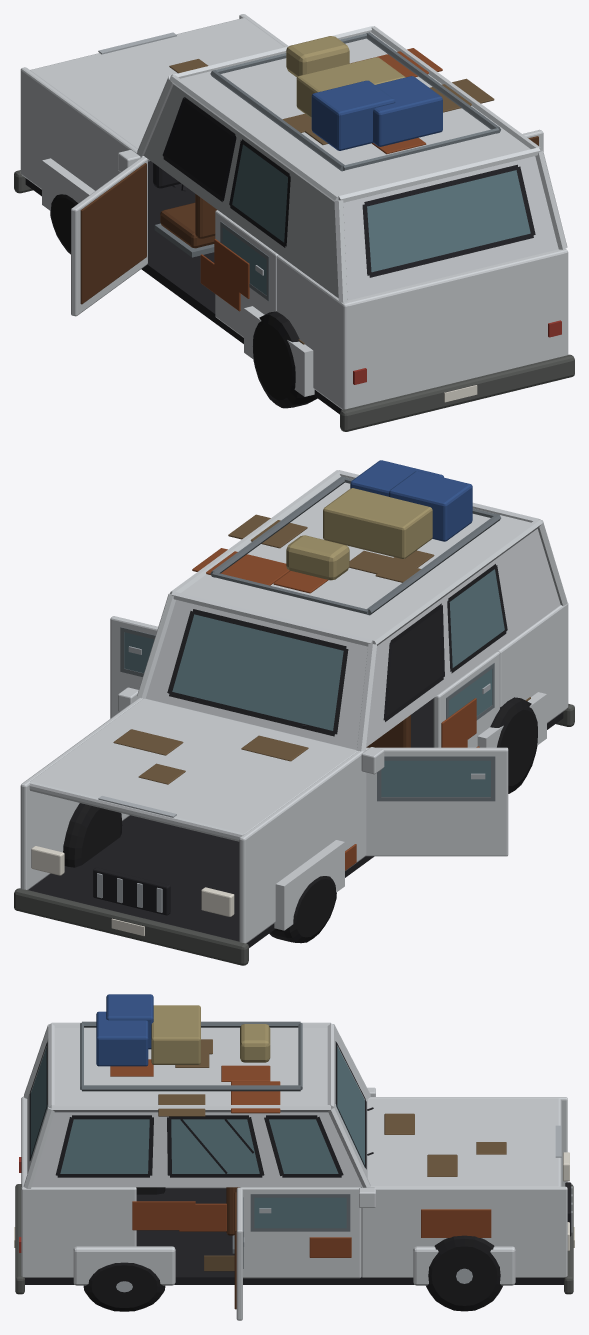
Rendered from car_jam_suv.glb.
The picture shows the model from 3 angles, top to bottom: view 1: azimuth 30°, elevation 25°; view 2: azimuth 150°, elevation 25°; view 3: azimuth 270°, elevation 25°; orthographic projection. The views are drawn at different scales.
Parts seen in each view (by area): view 1: car_jam_suv; view 2: car_jam_suv; view 3: car_jam_suv.
Boxes of the visible parts, bbox=[...] form: car_jam_suv: bbox=[14, 14, 574, 431]; car_jam_suv: bbox=[14, 460, 574, 965]; car_jam_suv: bbox=[14, 994, 574, 1320].
Size of what is drawn, in the model's own units: 3.47 by 2.2 by 4.62.
2 materials, 2 textured.
